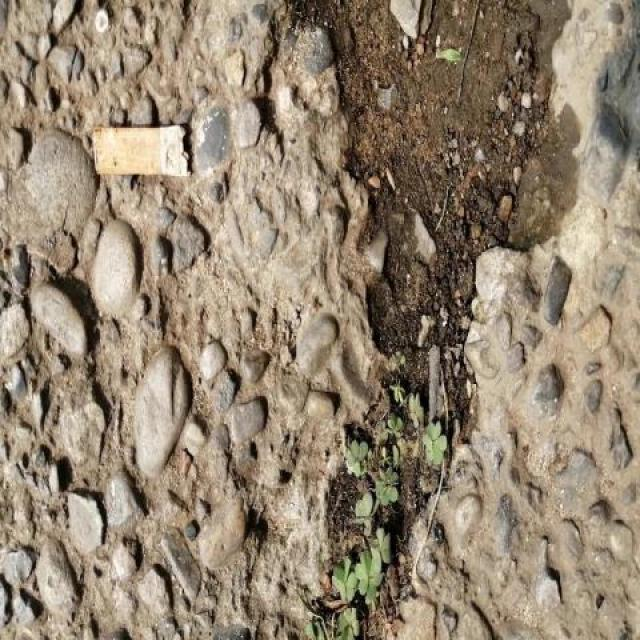non-organic waste: (90, 121, 194, 182)
